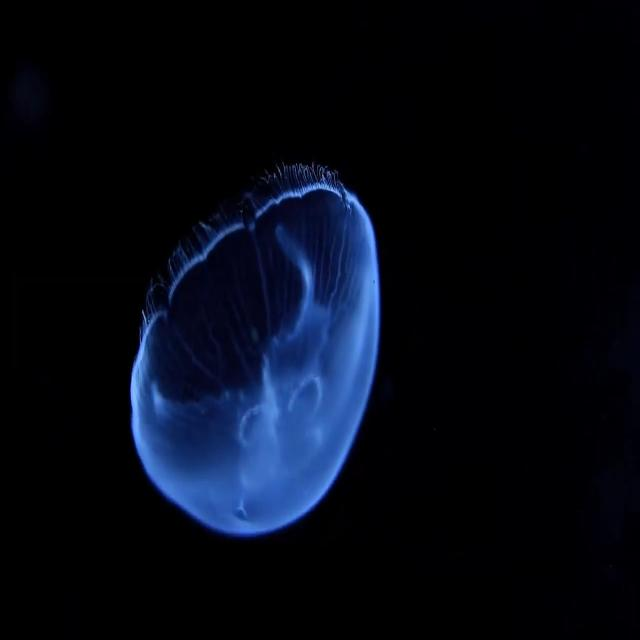Moon-jellyfish: (128, 157, 384, 542)
